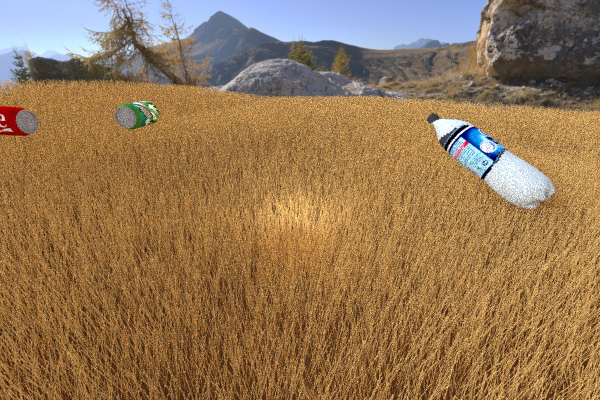bottle: (426, 113, 555, 209)
can: (114, 101, 159, 129), (0, 104, 38, 136)
